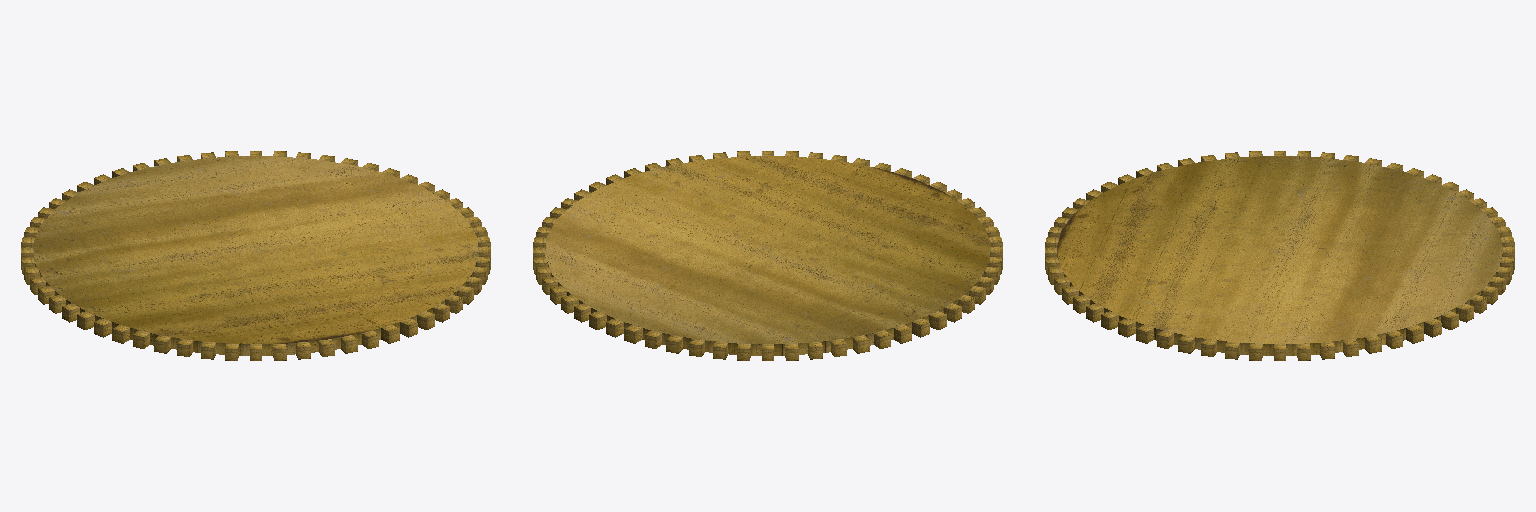
3 renders of one model, left to right at view 1: azimuth 30°, elevation 25°; view 2: azimuth 150°, elevation 25°; view 3: azimuth 270°, elevation 25°, orthographic.
Visible parts, largest first — view 1: Cylinder; view 2: Cylinder; view 3: Cylinder.
Part boxes in pixels (x1,y1,x2,y2): Cylinder: (21,151,490,360); Cylinder: (533,151,1002,360); Cylinder: (1045,151,1514,360).
Size of the model in its own units: 4.13 by 0.1138 by 4.13.
1 materials, 1 textured.